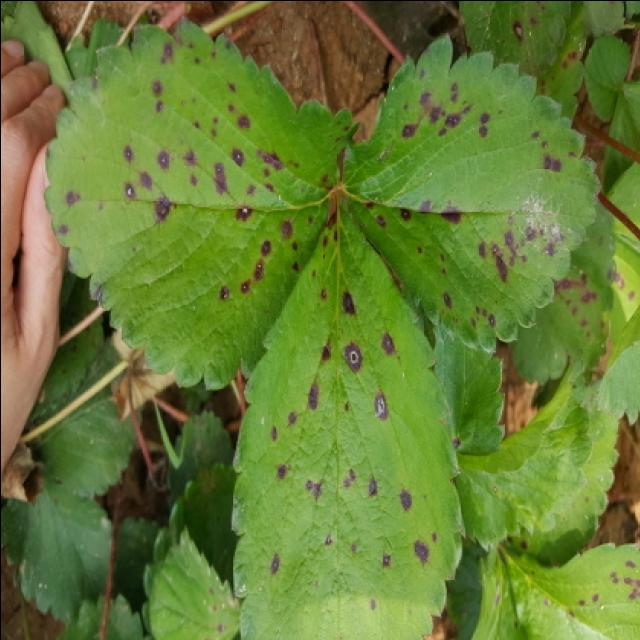Leaf Spot: (40, 14, 353, 392), (230, 205, 464, 640), (338, 29, 603, 354), (503, 202, 638, 385), (505, 407, 619, 562), (492, 542, 638, 640), (145, 517, 245, 640), (457, 2, 572, 74), (534, 2, 591, 118), (443, 538, 505, 640)
